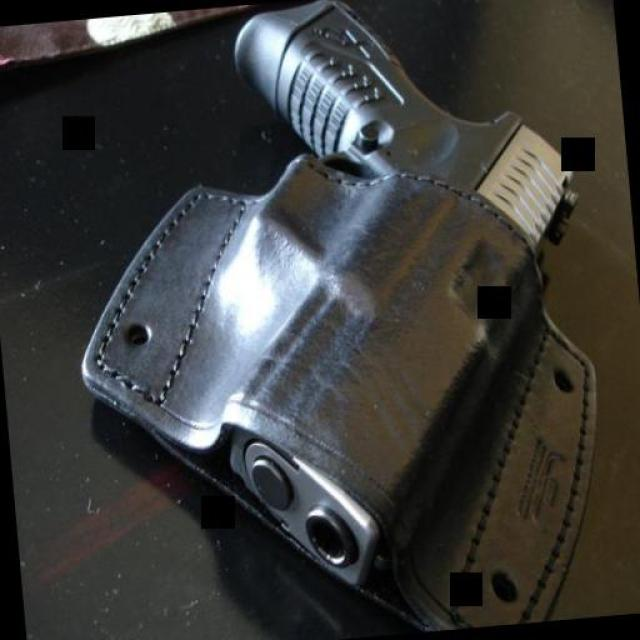gun: (180, 0, 608, 594)
